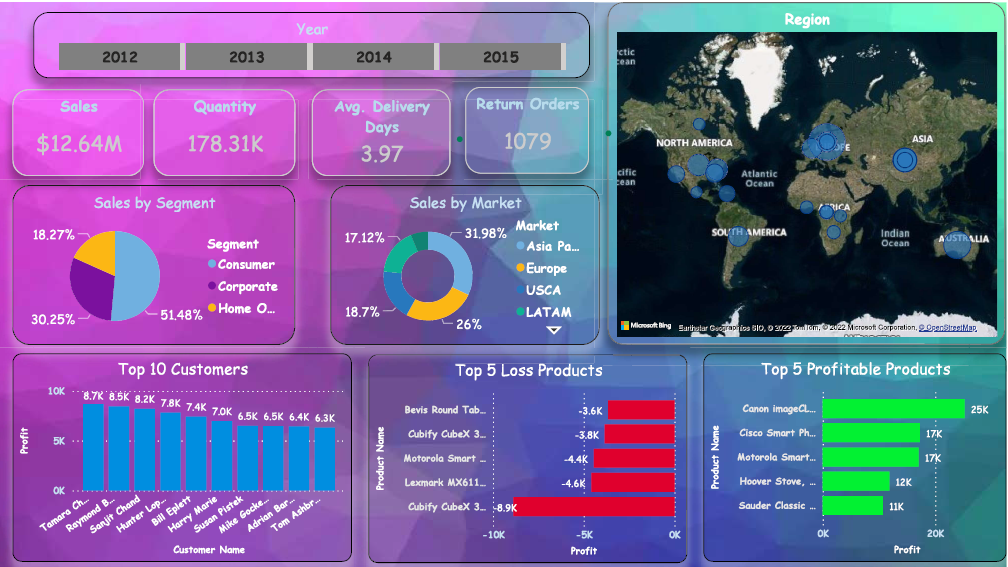

What the dashboard file says about the page in this screenshot:
{"tool":"powerbi","page":{"name":"Page 1","canvas":[1280,720],"ordinal":0},"visuals":[{"type":"card","title":"Sales","fields":{"Values":["Sum(Orders.Sales)"]},"box":[17.5,111.3,166.9,109.7],"z":0},{"type":"card","title":"Quantity","fields":{"Values":["Sum(Orders.Quantity)"]},"box":[197.1,111.3,179.6,109.7],"z":1000},{"type":"card","title":"Avg. Delivery Days ","fields":{"Values":["Avg(Orders.Delivery Days)"]},"box":[397.4,111.3,176.4,109.7],"z":2000},{"type":"slicer","title":"Year","fields":{"Values":["Orders.Year"]},"box":[42.9,12.7,707.3,84.2],"z":3000},{"type":"card","title":"Return Orders","fields":{"Values":["Sum(Returns.Return Orders)"]},"box":[592.8,108.1,157.4,109.7],"z":4000},{"type":"map","title":"Region","fields":{"Category":["Orders.Region"],"Size":["Sum(Orders.Sales)"]},"box":[774,0,505.4,435.5],"z":5000},{"type":"barChart","title":"Top 5 Profitable Products","fields":{"Y":["Sum(Orders.Profit)"],"Category":["Orders.Product Name"]},"box":[894.8,446.6,384.6,265.4],"z":6000},{"type":"barChart","title":"Top 5 Loss Products","fields":{"Y":["Sum(Orders.Profit)"],"Category":["Orders.Product Name"]},"box":[468.9,448.2,405.3,265.4],"z":7000},{"type":"donutChart","fields":{"Category":["Orders.Market"],"Y":["Sum(Orders.Sales)"]},"box":[421.2,232.1,341.7,203.4],"z":8000},{"type":"pieChart","fields":{"Category":["Orders.Segment"],"Y":["Sum(Orders.Sales)"]},"box":[17.5,232.1,359.2,203.4],"z":9000},{"type":"columnChart","title":"Top 10 Customers","fields":{"Y":["Sum(Orders.Profit)"],"Category":["Orders.Customer Name"]},"box":[17.5,446.6,430.7,265.4],"z":10000}]}

Visuals, with their boxes in screenshot pixels (x1, y1, x2, y2), scaled from the page's 1280x720 canvas onto the 1008x567 screenshot:
"Sales" card: detection(14, 88, 145, 174)
"Quantity" card: detection(155, 88, 297, 174)
"Avg. Delivery Days " card: detection(313, 88, 452, 174)
"Year" slicer: detection(34, 10, 591, 76)
"Return Orders" card: detection(467, 85, 591, 172)
"Region" map: detection(610, 0, 1007, 343)
"Top 5 Profitable Products" barChart: detection(705, 352, 1007, 561)
"Top 5 Loss Products" barChart: detection(369, 353, 688, 562)
donutChart - Orders.Market x Sum(Orders.Sales): detection(332, 183, 601, 343)
pieChart - Orders.Segment x Sum(Orders.Sales): detection(14, 183, 297, 343)
"Top 10 Customers" columnChart: detection(14, 352, 353, 561)
